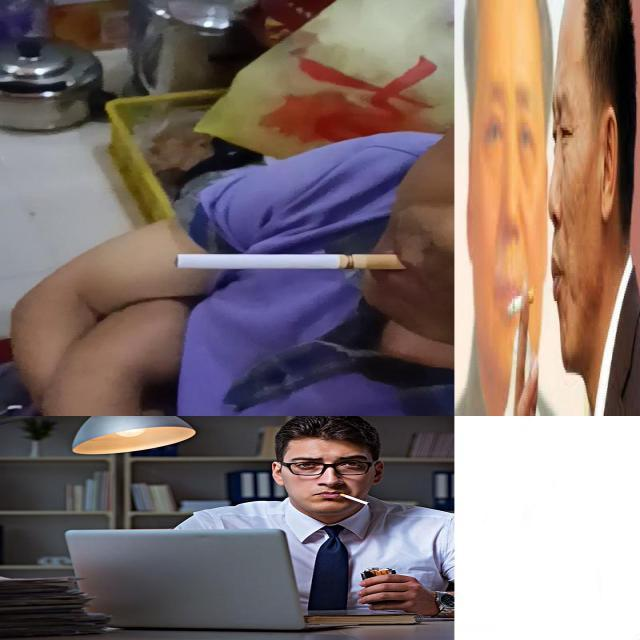smoking: (176, 255, 408, 271), (507, 288, 534, 318), (338, 493, 372, 507)
